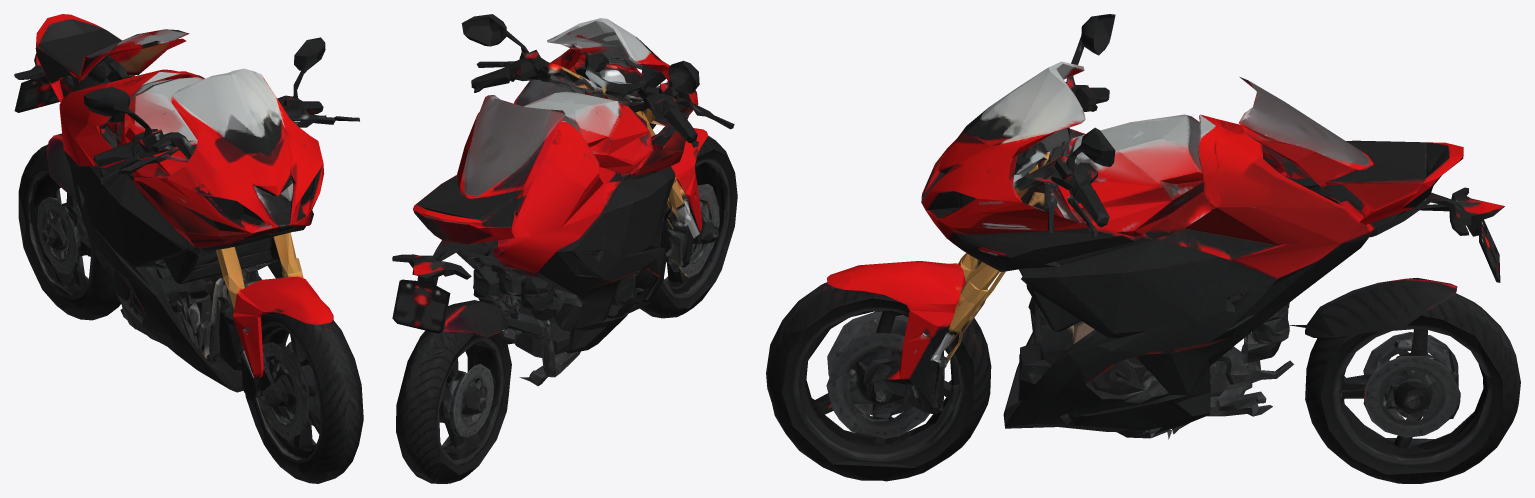
File: street_racer_rigged_pbr.glb
The picture shows the model from 3 angles, left to right: view 1: azimuth 30°, elevation 25°; view 2: azimuth 150°, elevation 25°; view 3: azimuth 270°, elevation 25°; orthographic projection. The views are drawn at different scales.
Parts seen in each view (by area): view 1: ChassisGroup, FrontWheelPivot, RearWheelPivot; view 2: ChassisGroup, RearWheelPivot, FrontWheelPivot; view 3: ChassisGroup, RearWheelPivot, FrontWheelPivot.
Part boxes in pixels (bbox=[...]): ChassisGroup: bbox=[14, 14, 359, 406]; FrontWheelPivot: bbox=[242, 272, 363, 483]; RearWheelPivot: bbox=[18, 133, 120, 320]; ChassisGroup: bbox=[392, 14, 734, 385]; RearWheelPivot: bbox=[396, 300, 511, 483]; FrontWheelPivot: bbox=[635, 136, 737, 318]; ChassisGroup: bbox=[827, 14, 1504, 439]; RearWheelPivot: bbox=[1305, 279, 1520, 483]; FrontWheelPivot: bbox=[766, 269, 991, 481].
Size of the model in its own units: 0.9818 by 1.26 by 2.1.
1 material, 1 textured.
